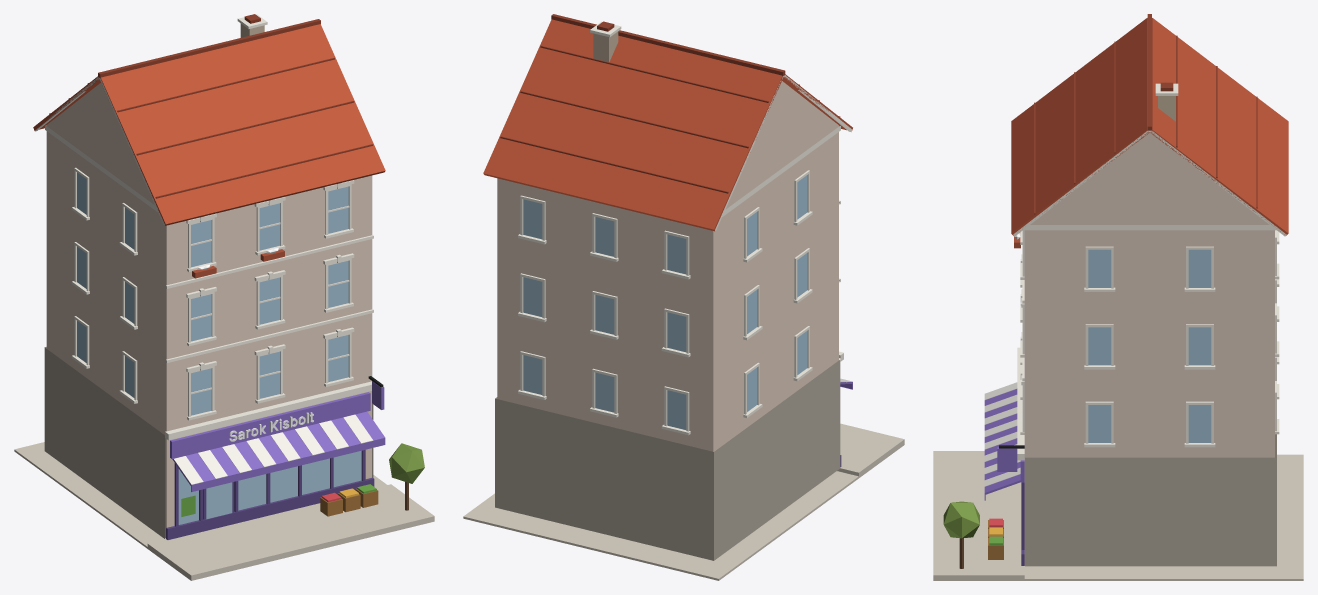
The model's file is Dukkan_sarok_kisbolt_Hafif.fbx.
3 views of the same model, side by side, from view 1: azimuth 30°, elevation 25°; view 2: azimuth 150°, elevation 25°; view 3: azimuth 270°, elevation 25° (orthographic). The views are drawn at different scales.
Parts seen in each view (by area): view 1: Dukkan_sarok_kisbolt_Hafif; view 2: Dukkan_sarok_kisbolt_Hafif; view 3: Dukkan_sarok_kisbolt_Hafif.
Part boxes in pixels (x1=…): Dukkan_sarok_kisbolt_Hafif: x1=14, y1=14, x2=434, y2=580; Dukkan_sarok_kisbolt_Hafif: x1=463, y1=14, x2=904, y2=580; Dukkan_sarok_kisbolt_Hafif: x1=933, y1=14, x2=1303, y2=580.
Size of the model in its own units: 10.35 by 17.78 by 12.98.
